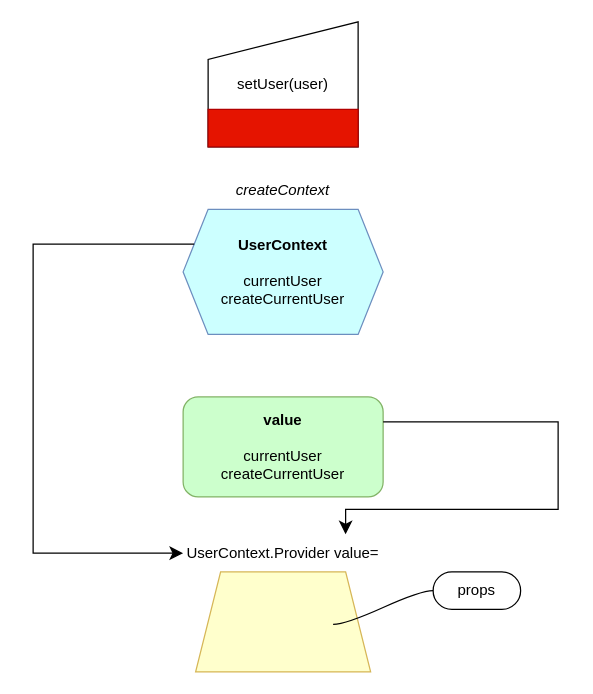
This 593x694 diagram has some shape labels left out. The centre of each missing label's shape, as x and y in pixels:
"useEffect" belongs at point (282, 127).
"{ children }" belongs at point (282, 621).
